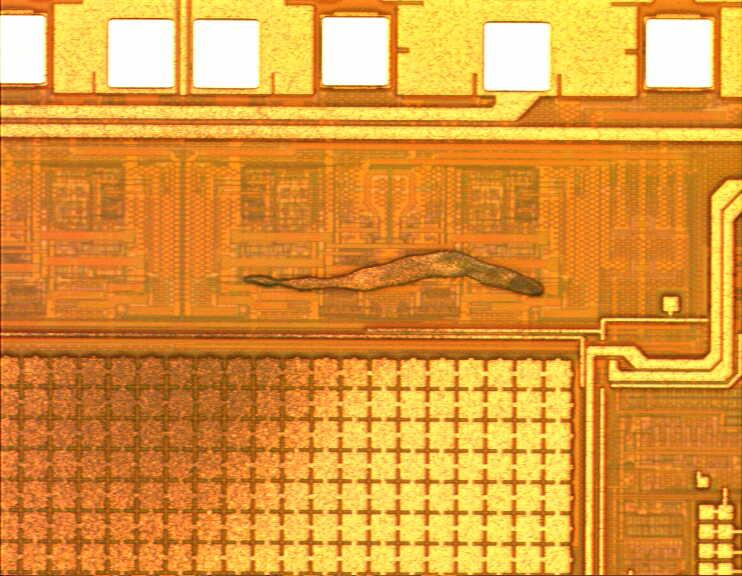PIQ PARTICLE: (234, 247, 550, 304)
